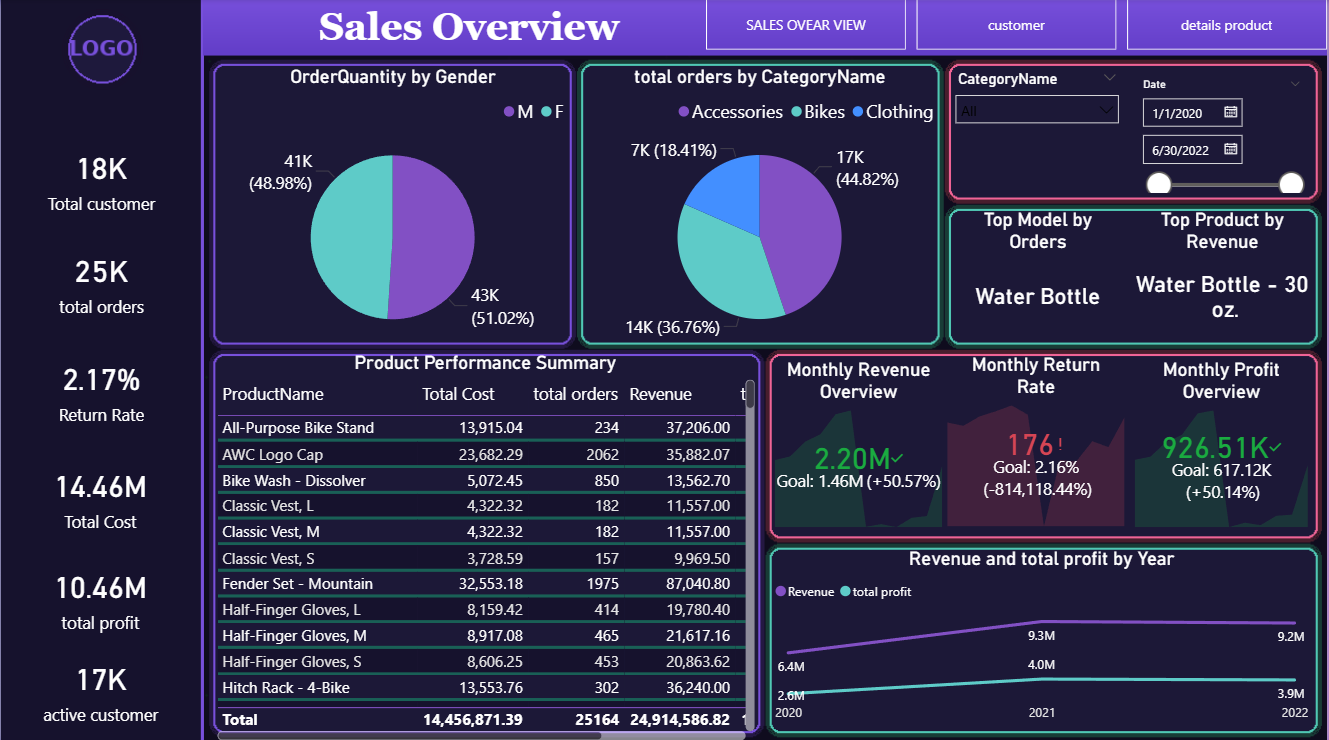

What the dashboard file says about the page in this screenshot:
{"tool":"powerbi","page":{"name":"SALES OVEAR VIEW","canvas":[1280,720],"ordinal":0},"visuals":[{"type":"pieChart","title":"OrderQuantity by Gender","fields":{"Category":["customer.Gender"],"Y":["Sum(sales data.OrderQuantity)"]},"box":[202.7,63.9,351.1,276.3],"z":0},{"type":"pieChart","fields":{"Category":["product category.CategoryName"],"Y":["new messure.total orders"]},"box":[554.3,64.3,357.1,275.7],"z":1000},{"type":"tableEx","title":"Product Performance Summary","fields":{"Values":["product.ProductName","new messure.Total Cost","new messure.total orders","new messure.Revenue","new messure.total profit","new messure.Return Rate"]},"box":[203.1,340.3,529.7,380.1],"z":2000},{"type":"lineChart","fields":{"Y":["new messure.Revenue","new messure.total profit"],"Category":["calender.Date.Variation.Date Hierarchy.Year","calender.Date.Variation.Date Hierarchy.Quarter","calender.Date.Variation.Date Hierarchy.Month","calender.Date.Variation.Date Hierarchy.Day"]},"box":[742,529.6,524.8,177.3],"z":3000},{"type":"card","title":" Top Model by Orders","fields":{"Values":["Min(product.ModelName)"]},"box":[911.7,202.1,177.4,123.8],"z":4000},{"type":"card","title":"Top Product by Revenue","fields":{"Values":["Min(product.ProductName)"]},"box":[1089.1,202.1,178.8,123.8],"z":5000},{"type":"kpi","title":" Monthly Revenue Overview","fields":{"Indicator":["new messure.Revenue"],"TrendLine":["calender.Month"],"Goal":["new messure.per_month rev"]},"box":[742.4,347.2,171.5,167.4],"z":6000},{"type":"kpi","title":"Monthly Profit Overview","fields":{"Goal":["new messure.Pert_Month Profit"],"Indicator":["new messure.total profit"],"TrendLine":["calender.Month"]},"box":[1089.5,347.2,177,167.4],"z":7000},{"type":"kpi","title":"Monthly Return Rate","fields":{"TrendLine":["calender.Month"],"Indicator":["new messure.qnt_reteurn"],"Goal":["new messure.PM Return Rate"]},"box":[908.4,343.1,181.1,171.5],"z":8000},{"type":"slicer","fields":{"Values":["product category.CategoryName"]},"box":[911.2,64.5,178.4,123.5],"z":9000},{"type":"slicer","fields":{"Values":["calender.Date"]},"box":[1089.4,71.2,177.3,115.8],"z":10000},{"type":"pageNavigator","box":[680.6,0,599.7,49.4],"z":11000},{"type":"textbox","box":[223.7,0,456.9,64.5],"z":12000},{"type":"card","fields":{"Values":["new messure.Total customer"]},"box":[1.2,126.7,191.8,92.9],"z":13000},{"type":"card","fields":{"Values":["new messure.total orders"]},"box":[1.2,219.6,191.8,105],"z":14000},{"type":"card","fields":{"Values":["new messure.Return Rate"]},"box":[1.2,324.5,191.8,103.8],"z":15000},{"type":"card","fields":{"Values":["new messure.active customer"]},"box":[1.2,624.9,190.6,82],"z":16000},{"type":"card","fields":{"Values":["new messure.Total Cost"]},"box":[0,430.9,192.1,98.8],"z":17000},{"type":"card","fields":{"Values":["new messure.total profit"]},"box":[0,531,192.1,93.3],"z":18000}]}

Visuals, with their boxes in screenshot pixels (x1, y1, x2, y2), scaled from the page's 1280x720 canvas onto the 1329x740 screenshot:
"OrderQuantity by Gender" pieChart: {"x1": 210, "y1": 66, "x2": 575, "y2": 350}
pieChart - product category.CategoryName x new messure.total orders: {"x1": 576, "y1": 66, "x2": 946, "y2": 349}
"Product Performance Summary" tableEx: {"x1": 211, "y1": 350, "x2": 761, "y2": 739}
lineChart - new messure.Revenue x new messure.total profit: {"x1": 770, "y1": 544, "x2": 1315, "y2": 727}
" Top Model by Orders" card: {"x1": 947, "y1": 208, "x2": 1131, "y2": 335}
"Top Product by Revenue" card: {"x1": 1131, "y1": 208, "x2": 1316, "y2": 335}
" Monthly Revenue Overview" kpi: {"x1": 771, "y1": 357, "x2": 949, "y2": 529}
"Monthly Profit Overview" kpi: {"x1": 1131, "y1": 357, "x2": 1315, "y2": 529}
"Monthly Return Rate" kpi: {"x1": 943, "y1": 353, "x2": 1131, "y2": 529}
slicer - product category.CategoryName: {"x1": 946, "y1": 66, "x2": 1131, "y2": 193}
slicer - calender.Date: {"x1": 1131, "y1": 73, "x2": 1315, "y2": 192}
pageNavigator: {"x1": 707, "y1": 0, "x2": 1328, "y2": 51}
textbox: {"x1": 232, "y1": 0, "x2": 707, "y2": 66}
card - new messure.Total customer: {"x1": 1, "y1": 130, "x2": 200, "y2": 226}
card - new messure.total orders: {"x1": 1, "y1": 226, "x2": 200, "y2": 334}
card - new messure.Return Rate: {"x1": 1, "y1": 334, "x2": 200, "y2": 440}
card - new messure.active customer: {"x1": 1, "y1": 642, "x2": 199, "y2": 727}
card - new messure.Total Cost: {"x1": 0, "y1": 443, "x2": 199, "y2": 544}
card - new messure.total profit: {"x1": 0, "y1": 546, "x2": 199, "y2": 642}
